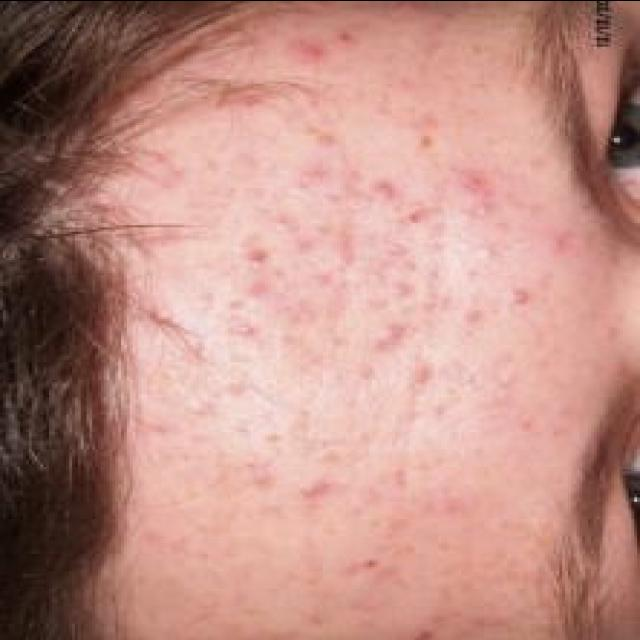Acne: (280, 36, 326, 66), (366, 320, 408, 350), (364, 180, 398, 202), (295, 476, 327, 499)
